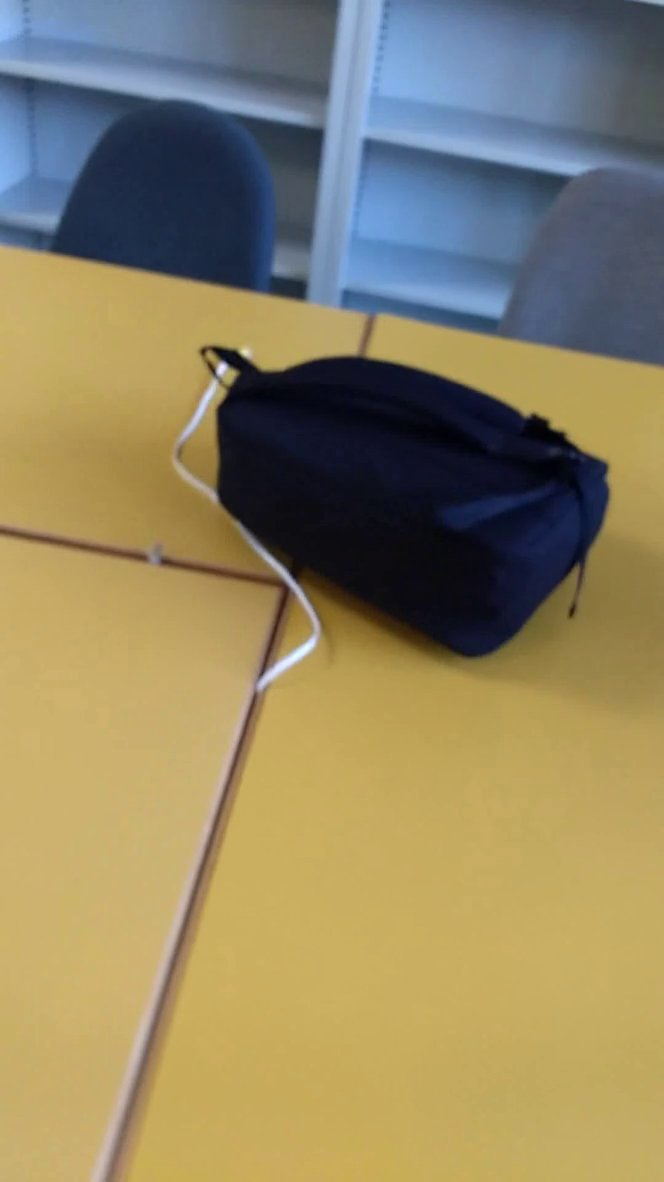bag: (191, 329, 626, 670)
chair: (36, 92, 303, 316), (487, 150, 664, 390)
